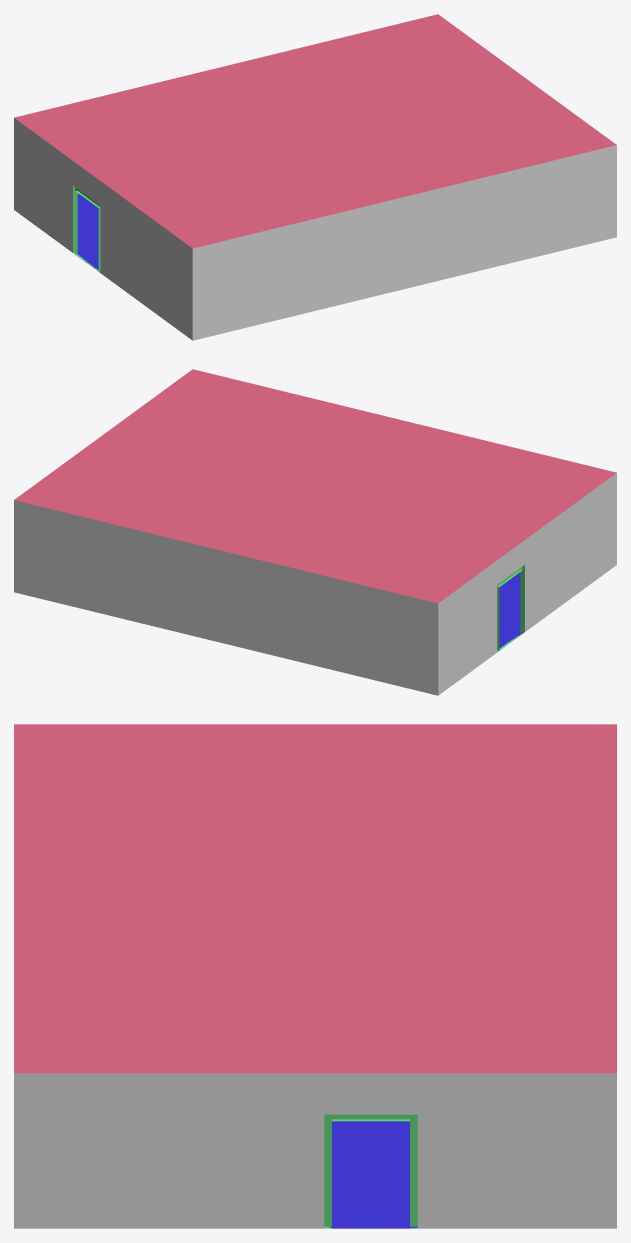
Rendered from Room2.fbx.
3 renders of one model, top to bottom at view 1: azimuth 30°, elevation 25°; view 2: azimuth 150°, elevation 25°; view 3: azimuth 270°, elevation 25°, orthographic. The views are drawn at different scales.
Visible parts, largest first — view 1: Cube.001; view 2: Cube.001; view 3: Cube.001, Cube.011.
Boxes of the visible parts, left/top/right/bottom form: Cube.001: left=14, top=14, right=616, bottom=340; Cube.001: left=14, top=369, right=616, bottom=695; Cube.001: left=14, top=724, right=616, bottom=1228; Cube.011: left=323, top=1080, right=421, bottom=1105.
Bounding box in the file's own units: 1842 × 385 × 1345.
